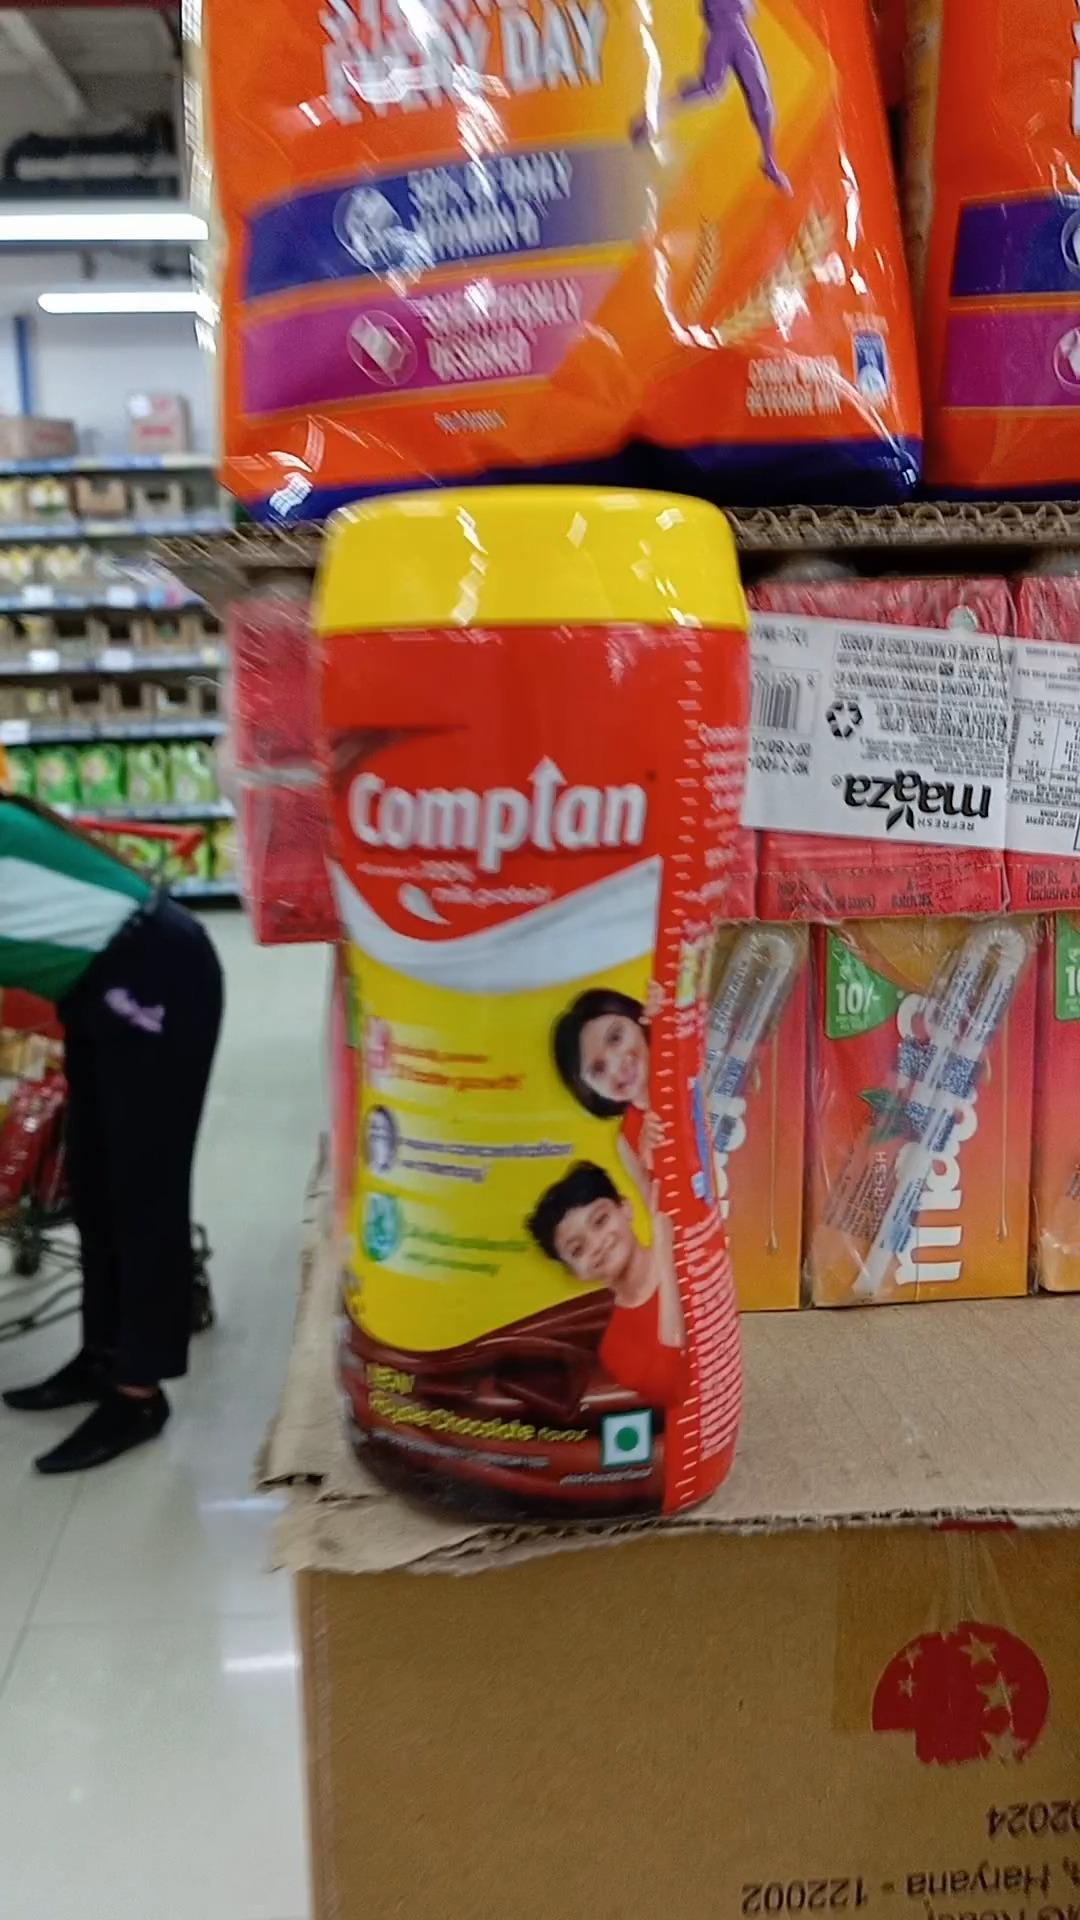COMPLAN_CHOCOLATE_200_GMS_JAR: (310, 475, 725, 1510)
